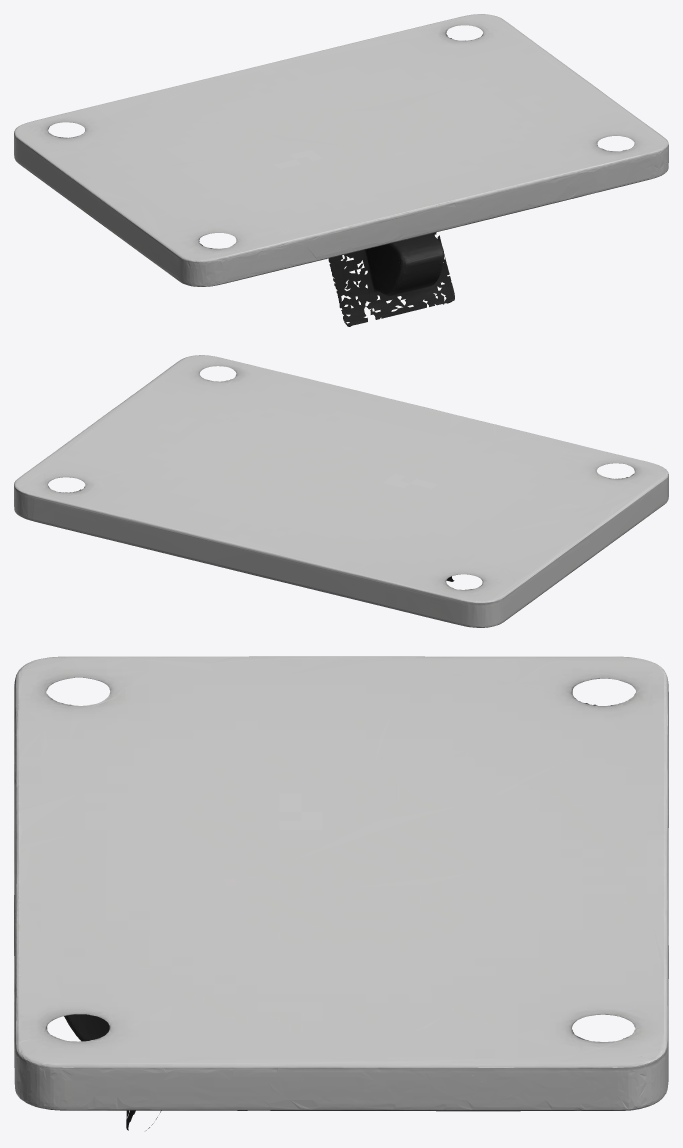
3 renders of one model, top to bottom at view 1: azimuth 30°, elevation 25°; view 2: azimuth 150°, elevation 25°; view 3: azimuth 270°, elevation 25°, orthographic. The views are drawn at different scales.
Parts seen in each view (by area): view 1: geometry_0; view 2: geometry_0; view 3: geometry_0.
Part boxes in pixels (x1=…): geometry_0: x1=14, y1=14, x2=668, y2=326; geometry_0: x1=14, y1=355, x2=668, y2=627; geometry_0: x1=14, y1=656, x2=668, y2=1130.
Bounding box in the file's own units: 1 × 0.2653 × 0.6735.
Materials: 1 (1 with a texture image).
